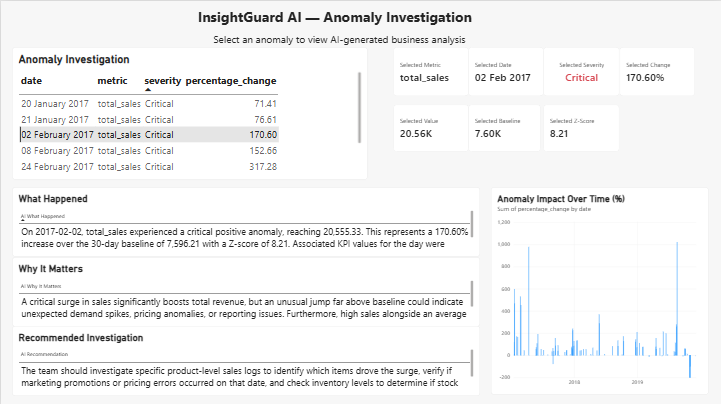

What the dashboard file says about the page in this screenshot:
{"tool":"powerbi","page":{"name":"Anomaly Investigation","canvas":[1920,1080],"ordinal":1},"visuals":[{"type":"tableEx","title":"Anomaly Investigation","fields":{"Values":["business_insights.date","business_insights.metric","business_insights.severity","business_insights.percentage_change"]},"box":[30,122.5,947.5,352.5],"z":0},{"type":"tableEx","title":"What Happened","fields":{"Values":["anomaly_report.AI What Happened"]},"box":[30,497.5,1247.5,185],"z":1000},{"type":"tableEx","title":"Why It Matters","fields":{"Values":["anomaly_report.AI Why It Matters"]},"box":[30.8,683.2,1247.5,184.7],"z":2000},{"type":"tableEx","title":"Recommended Investigation","fields":{"Values":["anomaly_report.AI Recommendation"]},"box":[30.8,867.9,1247.5,186.7],"z":3000},{"type":"textbox","box":[262,16,1254,68],"z":4000},{"type":"textbox","box":[1022,60,898,124],"z":5000},{"type":"textbox","box":[362,84,1078,72],"z":6000},{"type":"cardVisual","fields":{"Data":["anomaly_report.Selected Date"]},"box":[1247.5,122.5,200,130],"z":7000},{"type":"cardVisual","fields":{"Data":["anomaly_report.Selected Metric"]},"box":[1047.5,122.5,200,130],"z":8000},{"type":"cardVisual","fields":{"Data":["anomaly_report.Selected Severity"]},"box":[1447.5,122.5,202.5,130],"z":9000},{"type":"cardVisual","fields":{"Data":["anomaly_report.Selected Change"]},"box":[1650,122.5,200,130],"z":10000},{"type":"clusteredColumnChart","title":"Anomaly Impact Over Time (%)","fields":{"Category":["anomaly_report.date"],"Y":["Sum(anomaly_report.percentage_change)"]},"box":[1305,497.5,580,552.5],"z":11000},{"type":"cardVisual","fields":{"Data":["anomaly_report.Selected Value"]},"box":[1047.5,277.5,200,125],"z":12000},{"type":"cardVisual","fields":{"Data":["anomaly_report.Selected Baseline"]},"box":[1247.5,277.5,192.5,125],"z":13000},{"type":"cardVisual","fields":{"Data":["anomaly_report.Selected Z-Score"]},"box":[1447.5,277.5,202.5,125],"z":14000}]}

Visuals, with their boxes in screenshot pixels (x1, y1, x2, y2), scaled from the page's 1920x1080 canvas onto the 721x404 screenshot:
"Anomaly Investigation" tableEx: 11:46:367:178
"What Happened" tableEx: 11:186:480:255
"Why It Matters" tableEx: 12:256:480:325
"Recommended Investigation" tableEx: 12:325:480:394
textbox: 98:6:569:31
textbox: 384:22:720:69
textbox: 136:31:541:58
cardVisual - anomaly_report.Selected Date: 468:46:544:94
cardVisual - anomaly_report.Selected Metric: 393:46:468:94
cardVisual - anomaly_report.Selected Severity: 544:46:620:94
cardVisual - anomaly_report.Selected Change: 620:46:695:94
"Anomaly Impact Over Time (%)" clusteredColumnChart: 490:186:708:393
cardVisual - anomaly_report.Selected Value: 393:104:468:151
cardVisual - anomaly_report.Selected Baseline: 468:104:541:151
cardVisual - anomaly_report.Selected Z-Score: 544:104:620:151
